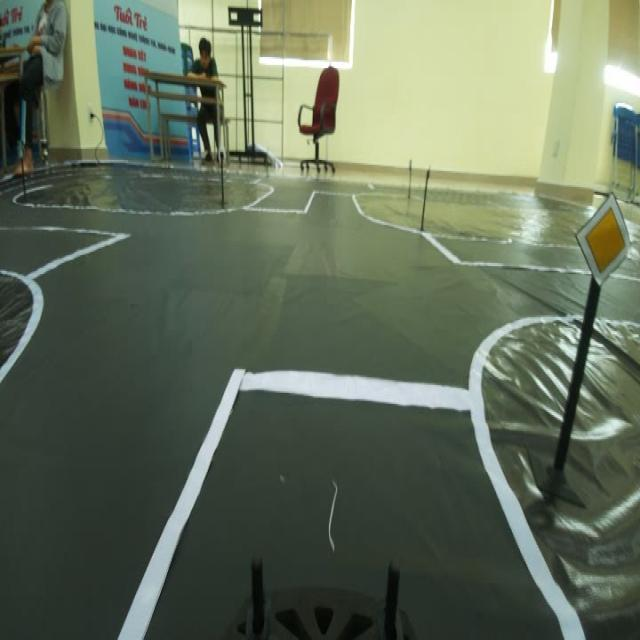priority: (575, 184, 634, 290)
